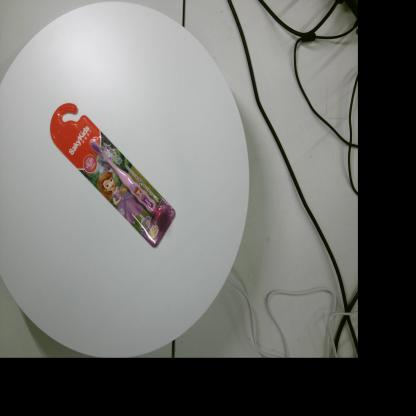Personal Hygiene: (50, 103, 176, 248)
